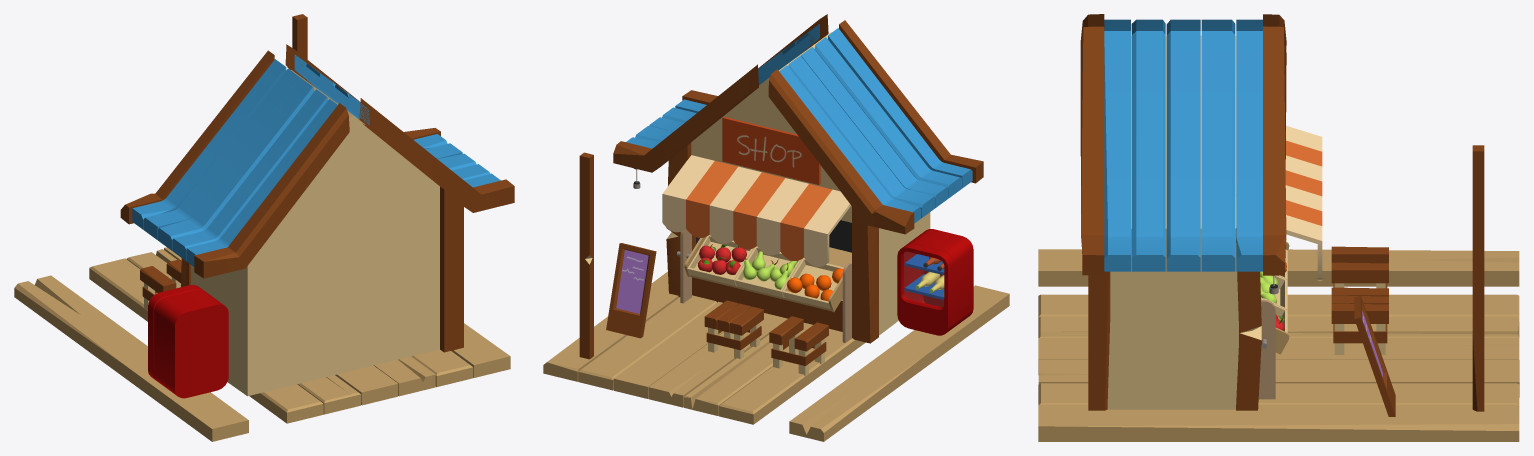
Rendered from Chinese_Shop_Scene2.fbx.
3 renders of one model, left to right at view 1: azimuth 30°, elevation 25°; view 2: azimuth 150°, elevation 25°; view 3: azimuth 270°, elevation 25°, orthographic. The views are drawn at different scales.
Parts seen in each view (by area): view 1: Chinese_Shop_Scene2; view 2: Chinese_Shop_Scene2; view 3: Chinese_Shop_Scene2.
Part boxes in pixels (bbox=[...]): Chinese_Shop_Scene2: bbox=[14, 14, 514, 441]; Chinese_Shop_Scene2: bbox=[543, 14, 1009, 441]; Chinese_Shop_Scene2: bbox=[1038, 14, 1519, 441].
Bounding box in the file's own units: 11.73 × 12.51 × 9.83.
